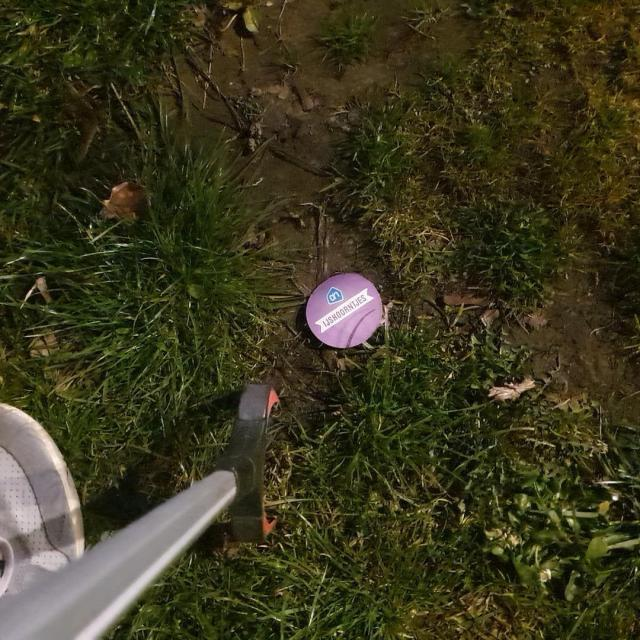Paper: (304, 272, 384, 351)
